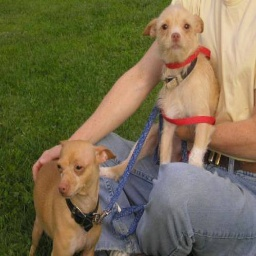dog: (24, 4, 220, 256)
